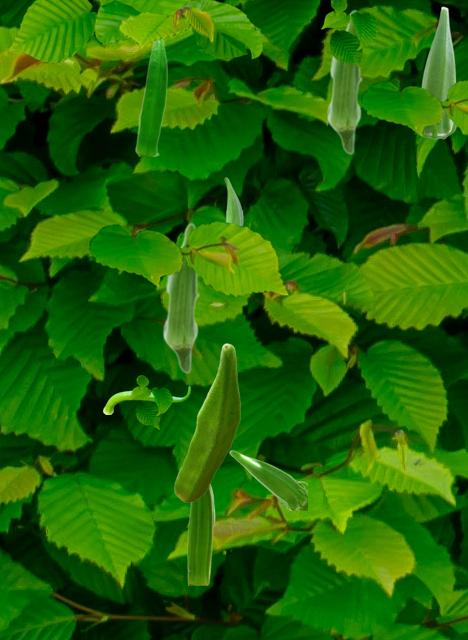okra: (174, 343, 239, 501), (162, 222, 198, 373), (326, 9, 361, 154), (421, 6, 456, 138), (229, 450, 306, 509), (135, 40, 167, 155), (187, 484, 214, 584), (103, 386, 189, 413), (224, 177, 242, 224)
